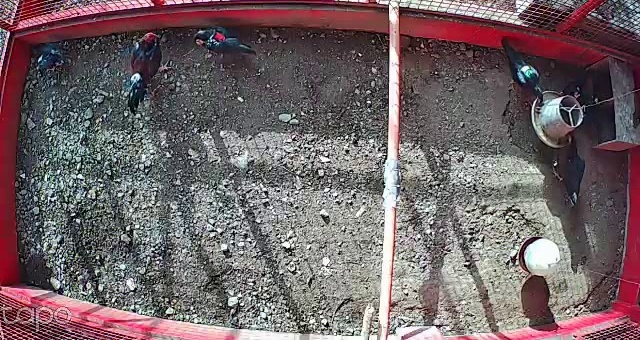Chicken: (544, 129, 595, 216), (498, 35, 551, 106), (191, 25, 261, 63), (32, 42, 78, 85)
Rooster: (123, 27, 177, 114)
Saddle_Color_Red: (212, 29, 226, 43)
Saddle_Color_White: (36, 55, 44, 62)
Saddle_Color_YellowGreen: (518, 63, 534, 79)
